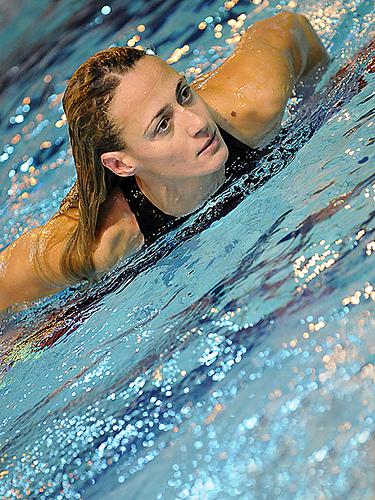swimmer: (0, 18, 333, 311)
